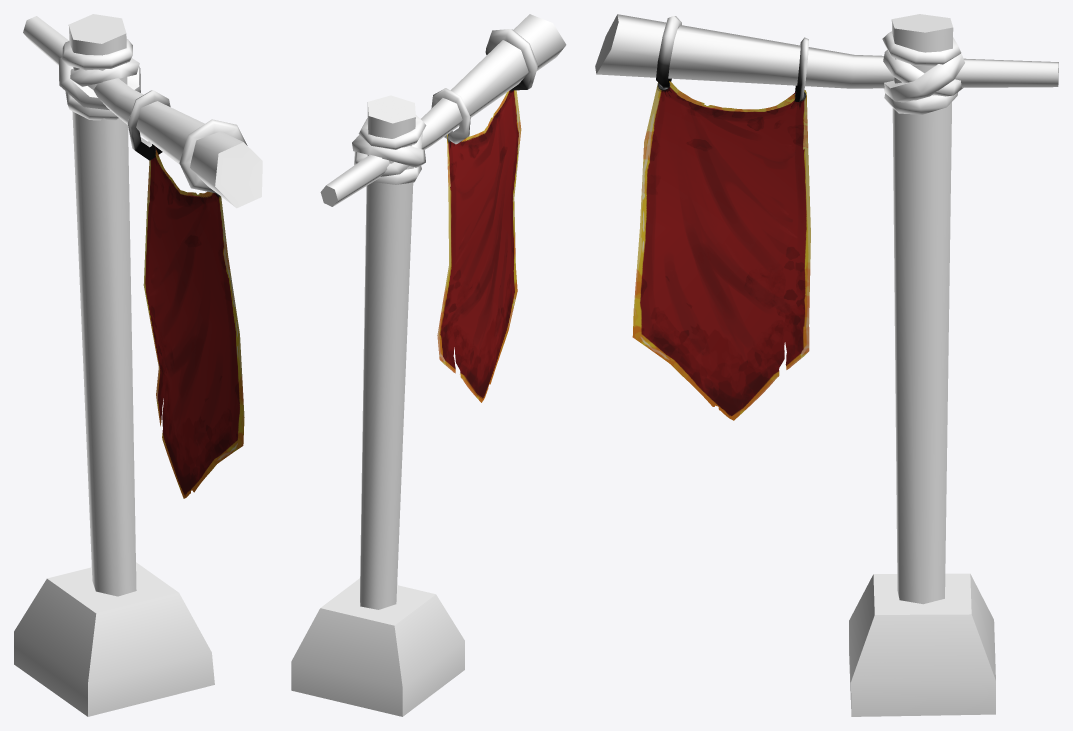
File: SM_PROP_flag_02.FBX
The picture shows the model from 3 angles, left to right: view 1: azimuth 30°, elevation 25°; view 2: azimuth 150°, elevation 25°; view 3: azimuth 270°, elevation 25°; orthographic projection. The views are drawn at different scales.
Visible parts, largest first — view 1: SM_PROP_flag_02; view 2: SM_PROP_flag_02; view 3: SM_PROP_flag_02.
Boxes of the visible parts, <box> form: SM_PROP_flag_02: <box>14,14,262,716</box>; SM_PROP_flag_02: <box>291,14,566,716</box>; SM_PROP_flag_02: <box>595,14,1058,716</box>.
Size of the model in its own units: 123 by 378 by 590.
